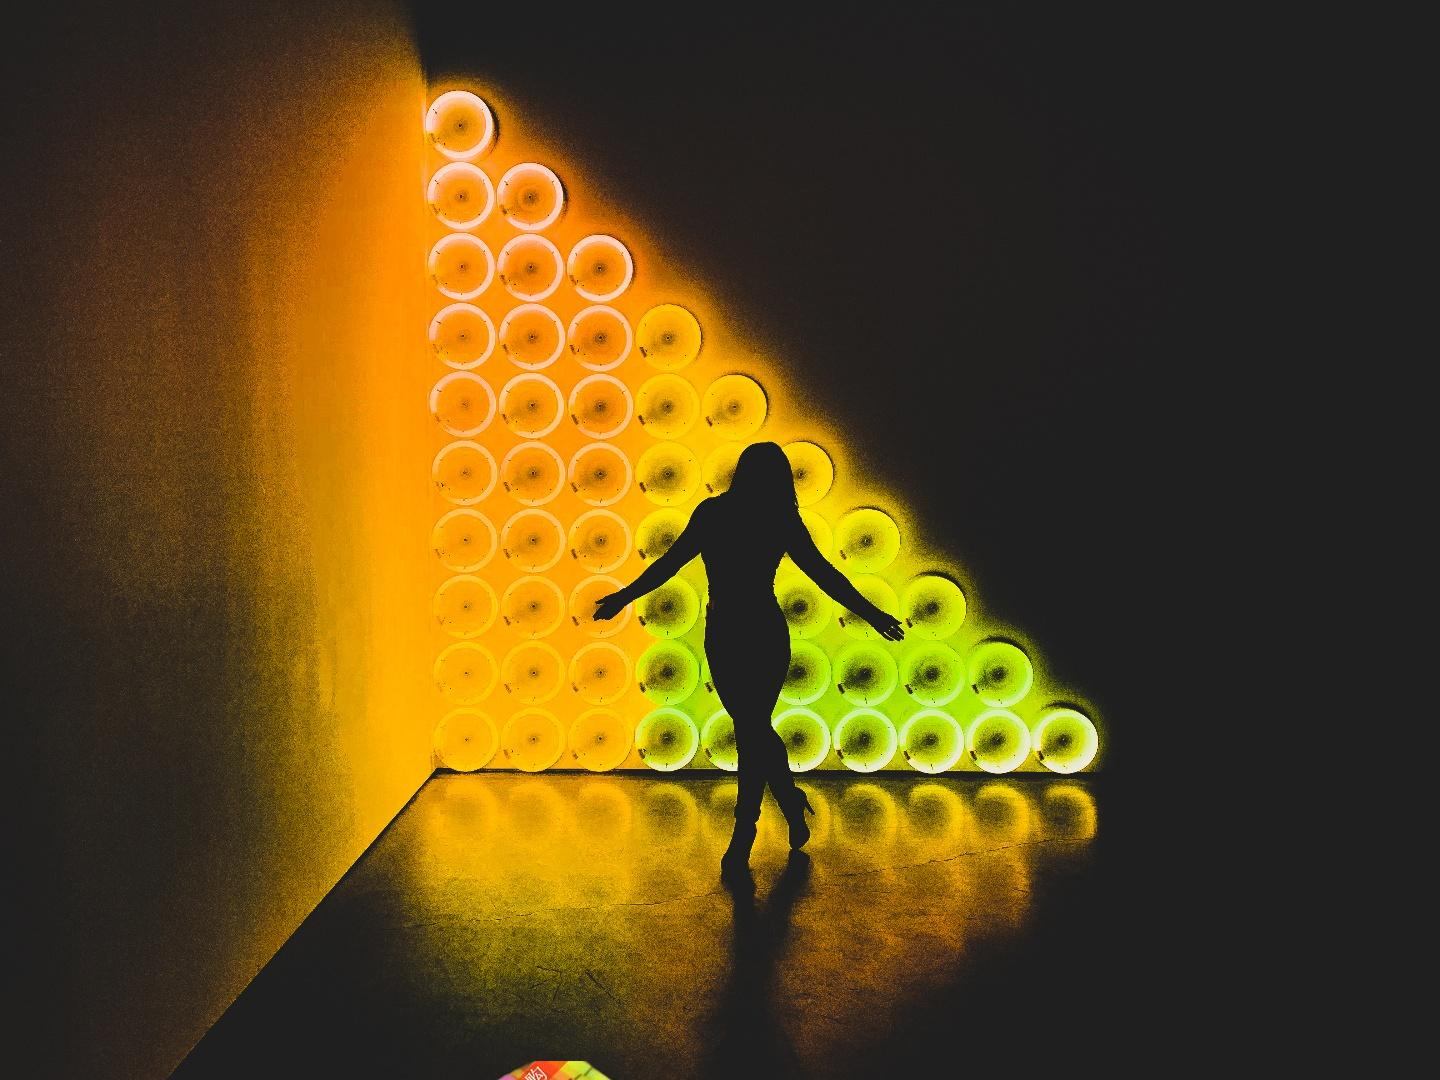penholder: (433, 1061, 743, 1080)
